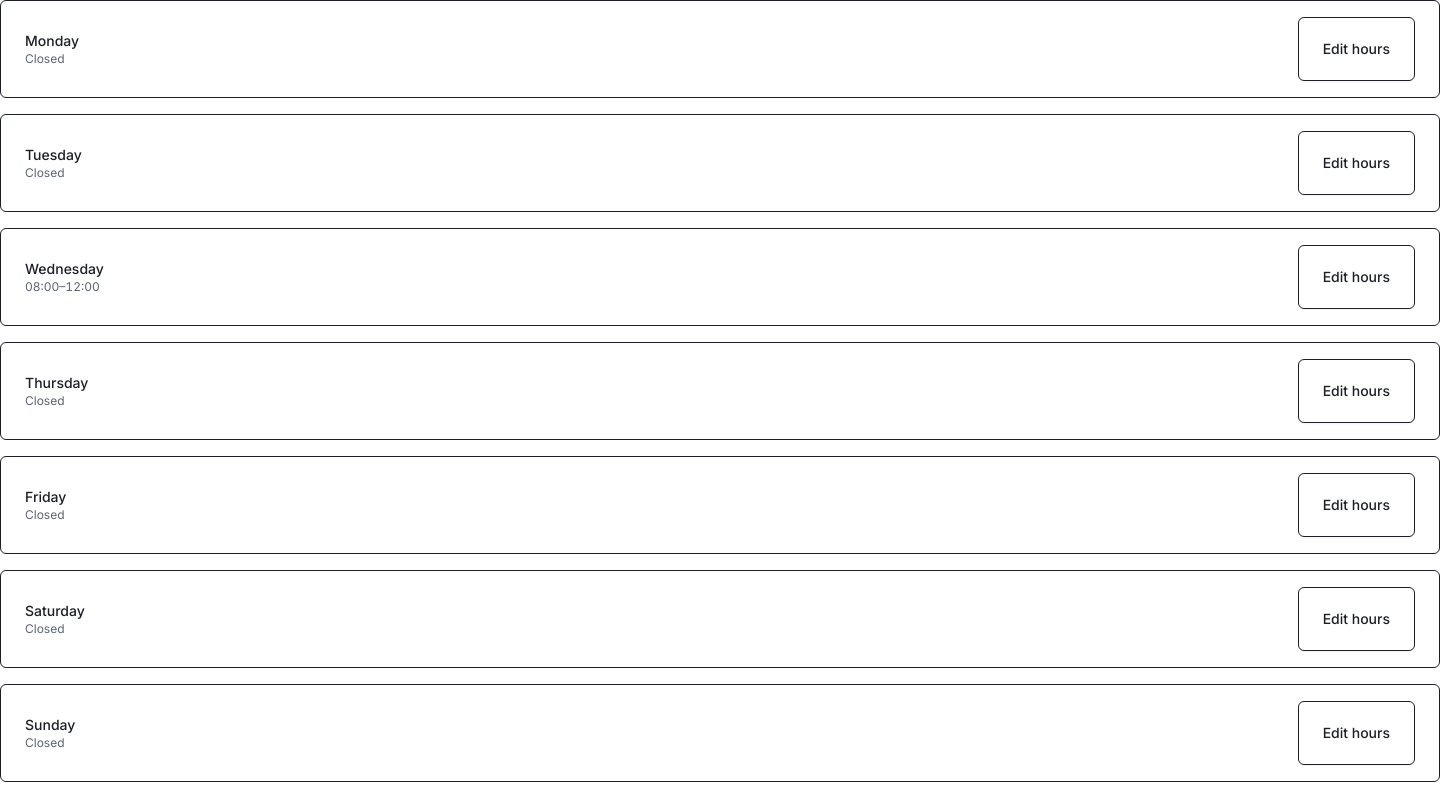
WeeklyScheduleEditor › Add range button appends a new row
The width and height of the screenshot is (1440, 810).
Click the button with aria-label "edit wednesday hours": x=1356, y=277 [1298, 245, 1415, 309]
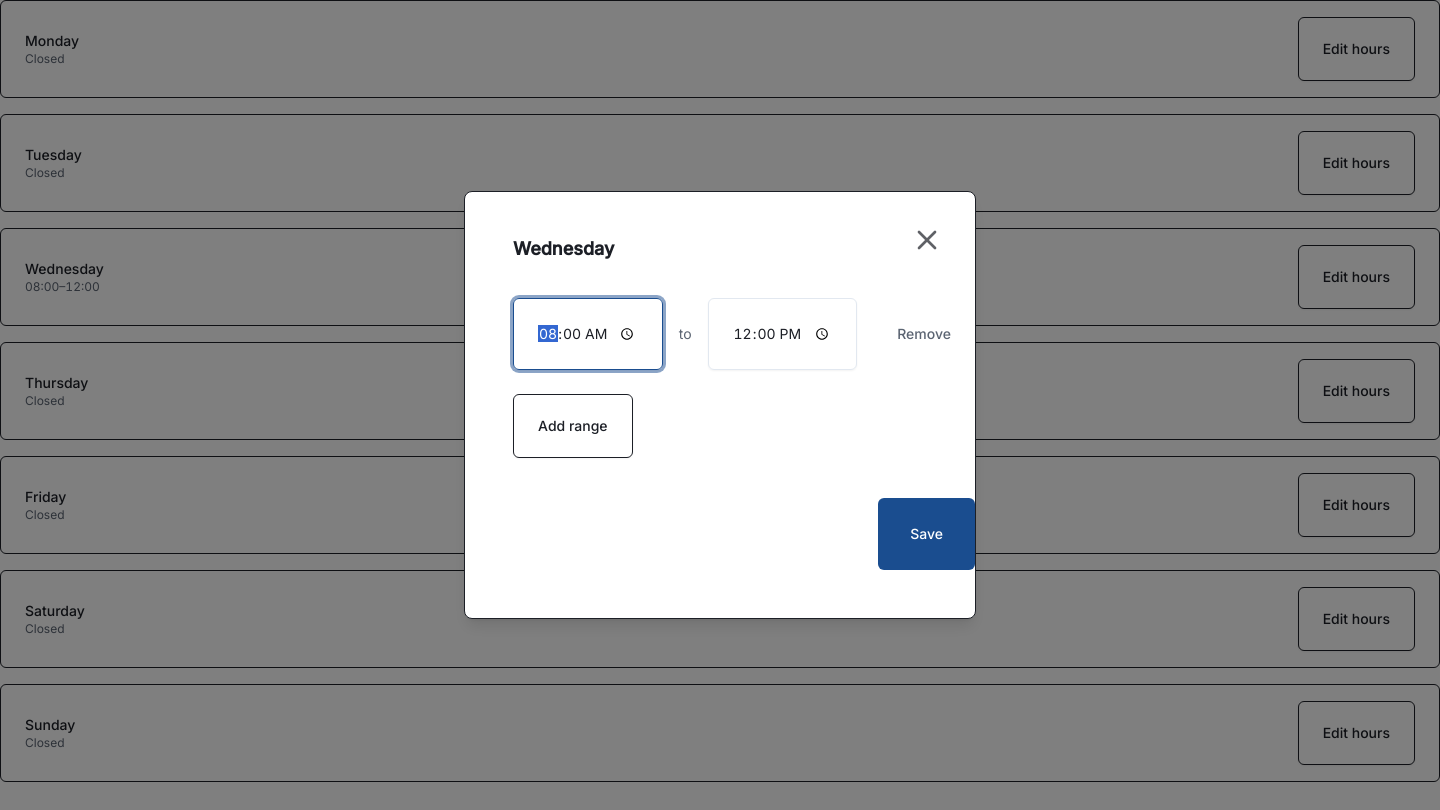
Click the button "Add range": x=573, y=426 [513, 394, 633, 458]
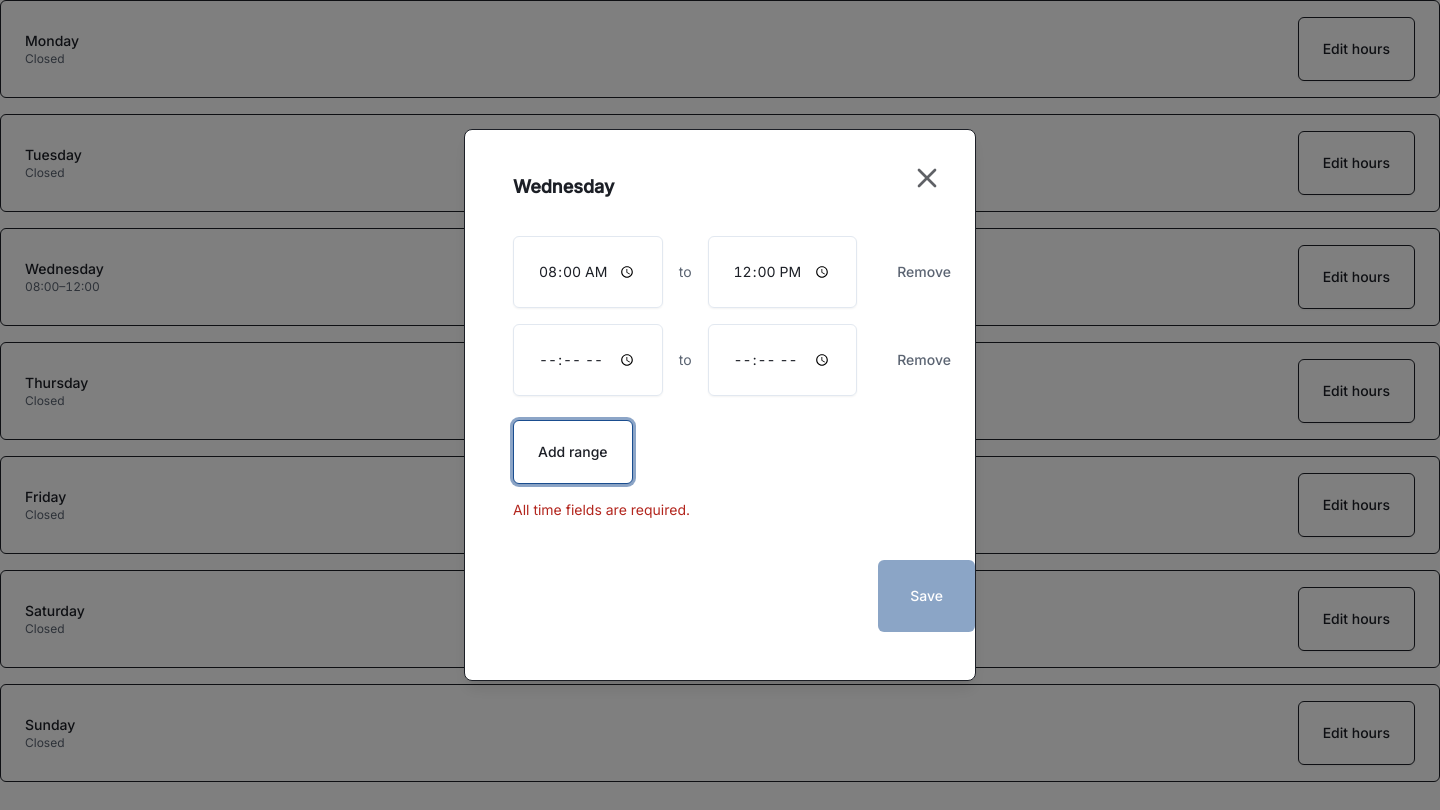
Check: the number of time fields named "start" is 2, box [513, 236, 663, 308]; [513, 324, 663, 396]
